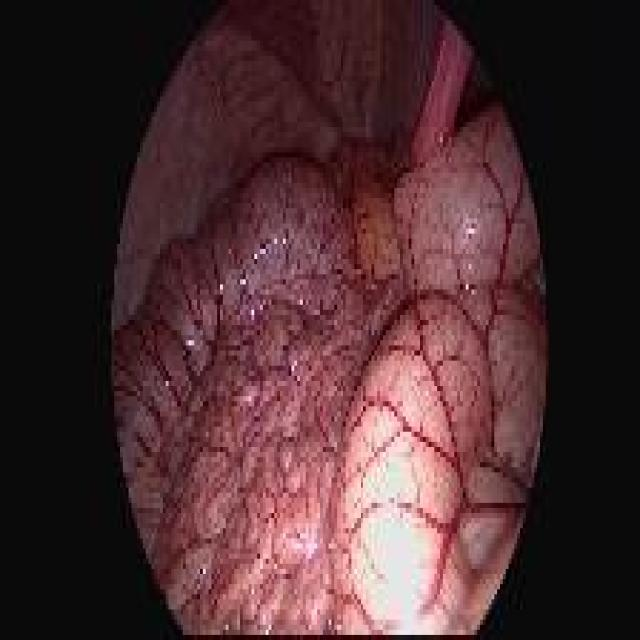contrast: (112, 0, 421, 167), (113, 168, 191, 369), (192, 169, 252, 266), (453, 45, 492, 135)
saturation: (347, 376, 439, 635)
specularity: (285, 523, 320, 565), (258, 232, 296, 258), (306, 601, 319, 635), (244, 392, 260, 417), (463, 217, 476, 245), (213, 281, 227, 304), (464, 279, 477, 303), (196, 565, 208, 591), (435, 129, 448, 153), (298, 290, 311, 313), (192, 308, 208, 325), (237, 271, 251, 287), (256, 610, 269, 627), (285, 359, 296, 379), (160, 371, 171, 391), (210, 338, 221, 356), (184, 335, 196, 350), (327, 611, 336, 631), (248, 306, 257, 322)
